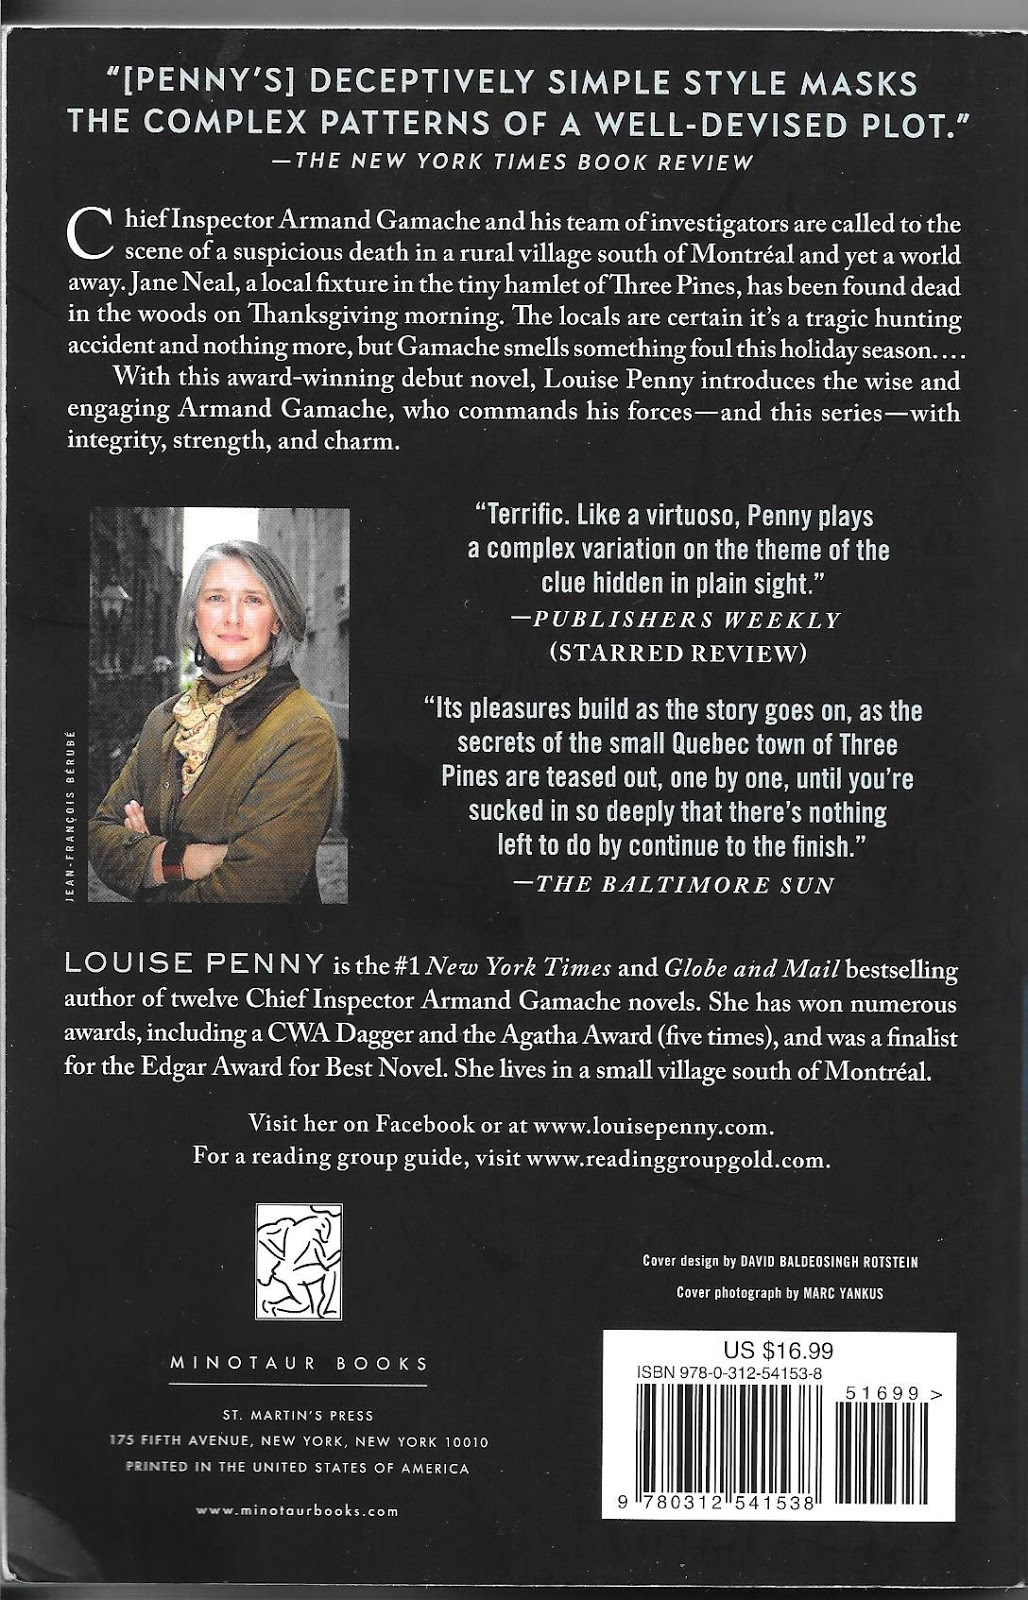barcode: (620, 1340, 945, 1525)
